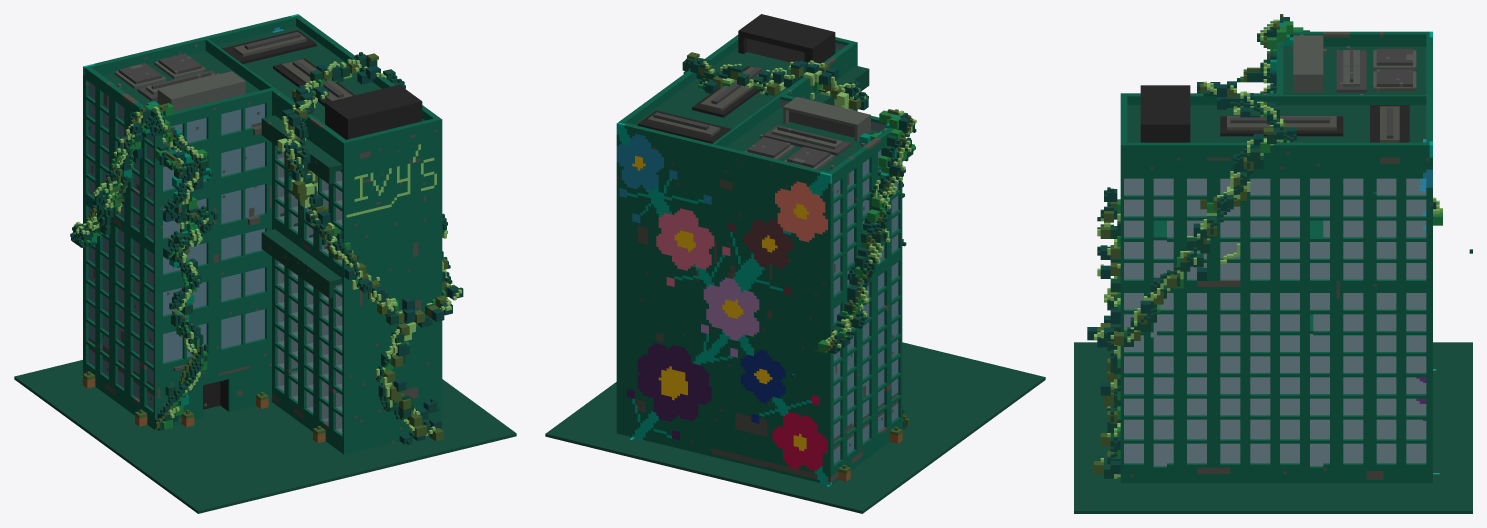
Rendered from building6.obj.
3 renders of one model, left to right at view 1: azimuth 30°, elevation 25°; view 2: azimuth 150°, elevation 25°; view 3: azimuth 270°, elevation 25°, orthographic. The views are drawn at different scales.
Bounding box in the file's own units: 12 × 11.8 × 12.
Materials: 1 (1 with a texture image).
